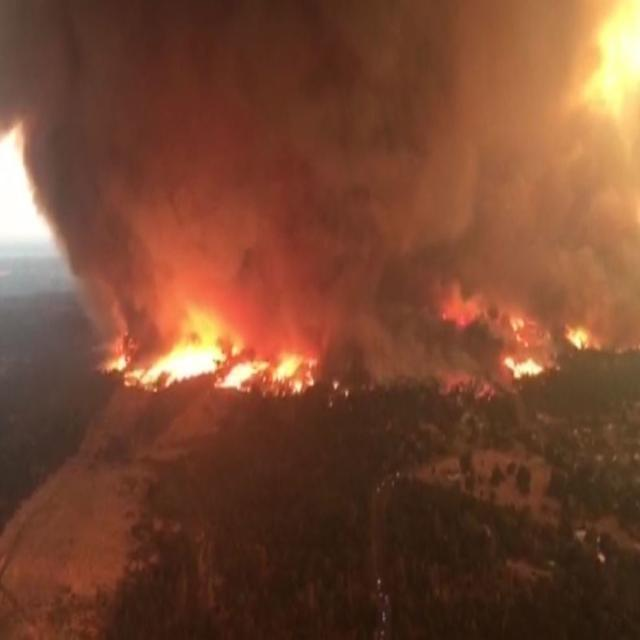Fire: (134, 321, 226, 396)
Smoke: (1, 0, 640, 401)
